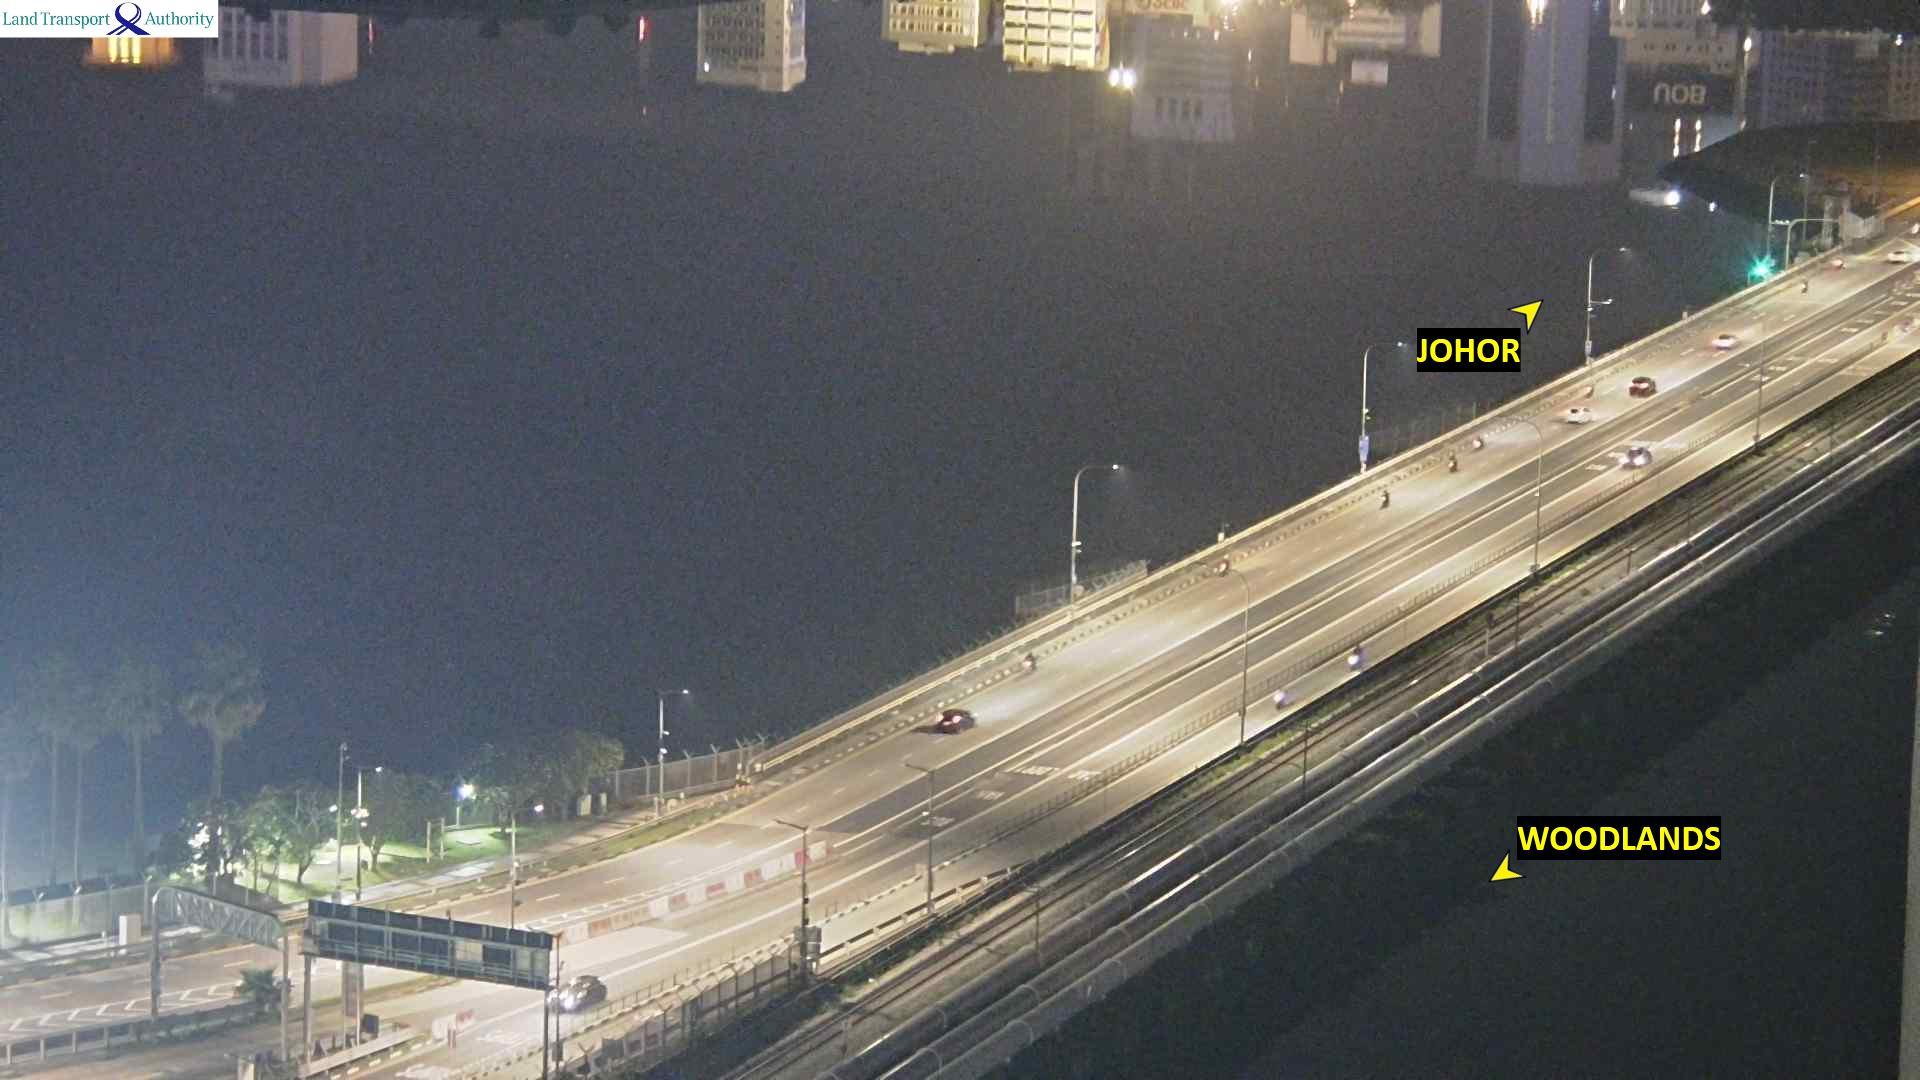vehicle-causeway-johor: (937, 709, 974, 732), (1891, 249, 1920, 269), (1630, 376, 1655, 397), (1712, 335, 1738, 351), (1568, 405, 1591, 422), (1023, 652, 1037, 673), (1452, 456, 1463, 475), (1475, 434, 1487, 450), (1380, 491, 1389, 507), (1801, 280, 1808, 294)
vehicle-causeway-singapore: (549, 975, 607, 1014), (1620, 447, 1647, 470), (1275, 687, 1291, 710), (1347, 645, 1361, 669)
